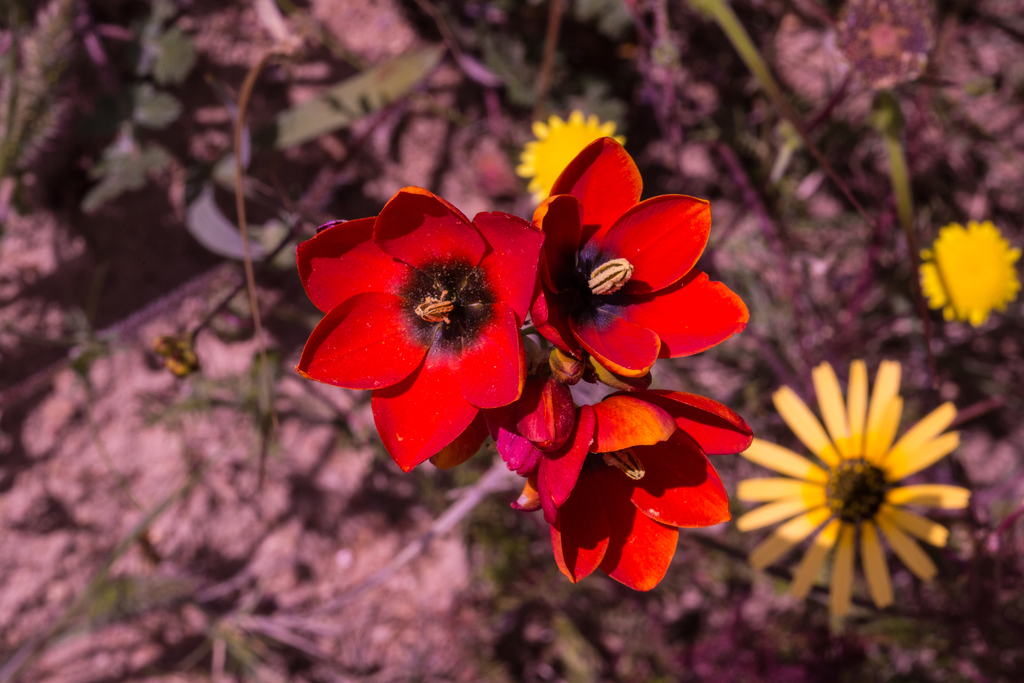flower: (284, 133, 762, 600)
